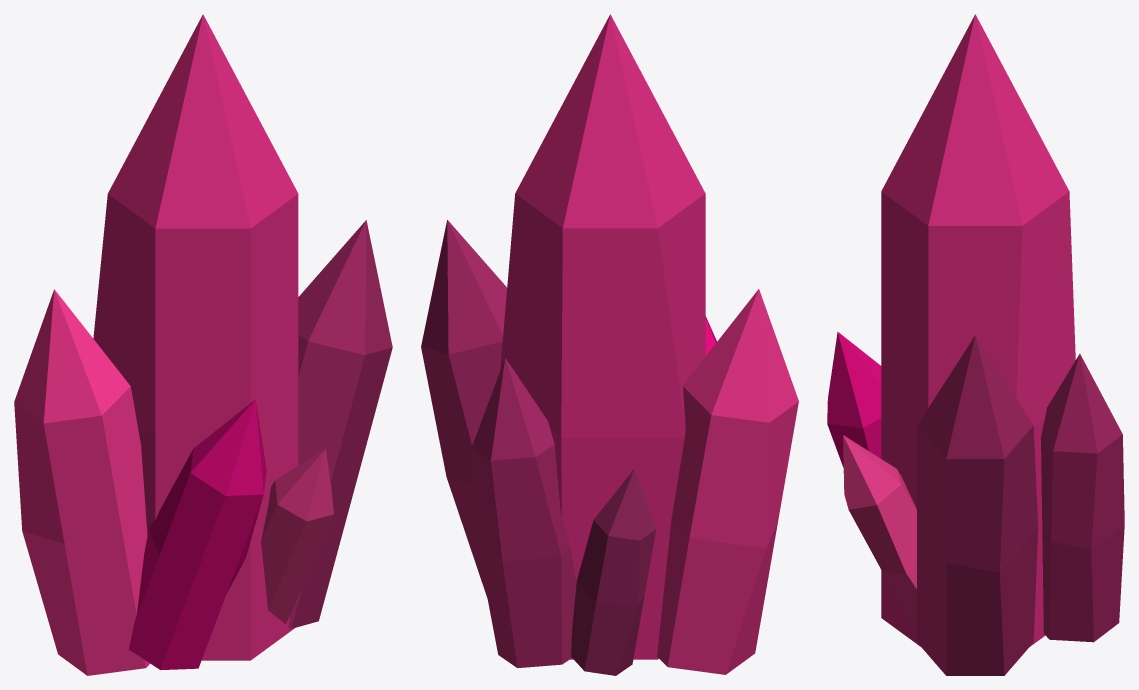
Rendered from Crystal.glb.
3 renders of one model, left to right at view 1: azimuth 30°, elevation 25°; view 2: azimuth 150°, elevation 25°; view 3: azimuth 270°, elevation 25°, orthographic.
Parts seen in each view (by area): view 1: Silinder, Silinder.001, Silinder.009, Silinder.002, Silinder.006; view 2: Silinder, Silinder.001, Silinder.008, Silinder.002, Silinder.005; view 3: Silinder, Silinder.002, Silinder.008, Silinder.006, Silinder.009.
Part boxes in pixels (x1,y1,x2,y2): Silinder: (93,14,298,660); Silinder.001: (14,289,149,675); Silinder.009: (129,399,266,670); Silinder.002: (288,220,392,628); Silinder.006: (261,448,333,624); Silinder: (500,14,705,659); Silinder.001: (657,289,798,674); Silinder.008: (471,358,576,668); Silinder.002: (421,220,506,597); Silinder.005: (571,468,656,675); Silinder: (881,14,1075,647); Silinder.002: (917,335,1038,675); Silinder.008: (1041,354,1124,642); Silinder.006: (843,435,916,632); Silinder.009: (827,332,881,467).
Size of the model in its own units: 0.0846 by 0.1438 by 0.0632.
